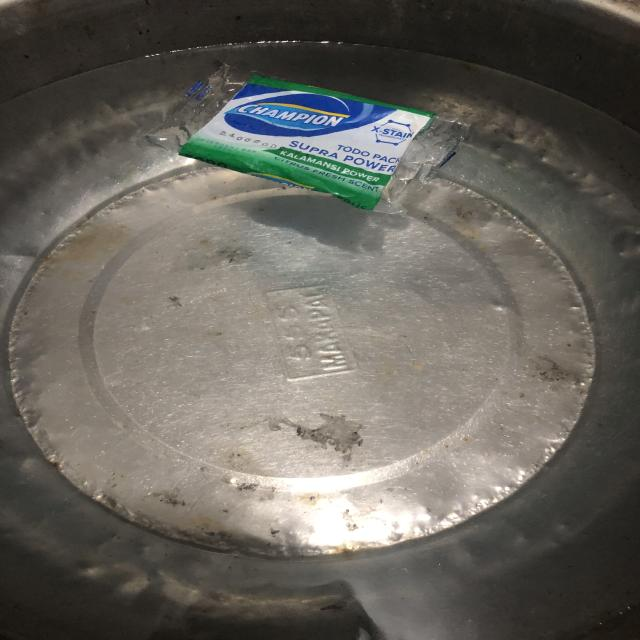Plastic Wrapper: (144, 66, 470, 224)
